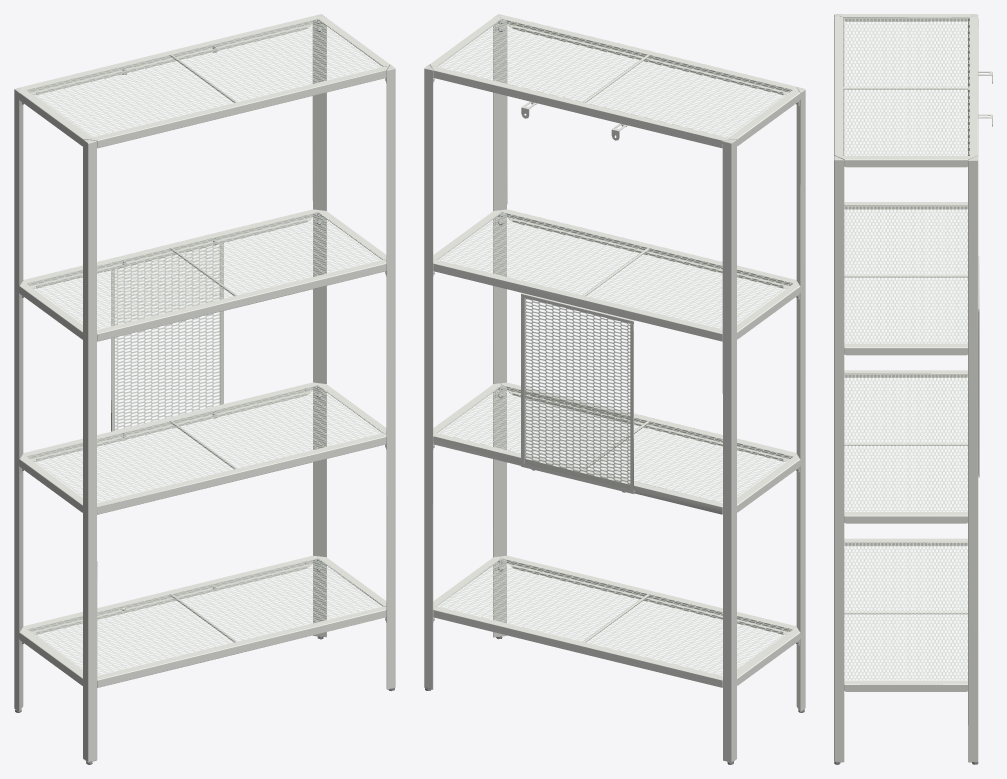
3 views of the same model, side by side, from view 1: azimuth 30°, elevation 25°; view 2: azimuth 150°, elevation 25°; view 3: azimuth 270°, elevation 25° (orthographic). The views are drawn at different scales.
Parts seen in each view (by area): view 1: 1; view 2: 1; view 3: 1.
Boxes of the visible parts, bbox=[...] form: 1: bbox=[14, 14, 395, 764]; 1: bbox=[424, 14, 805, 764]; 1: bbox=[834, 14, 992, 764].
Bounding box in the file's own units: 0.6005 × 1.16 × 0.2759.
2 materials, 2 textured.
